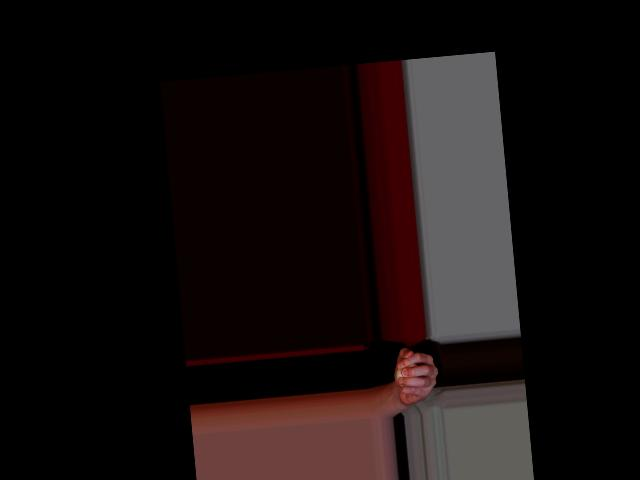egg: (395, 360, 420, 386)
